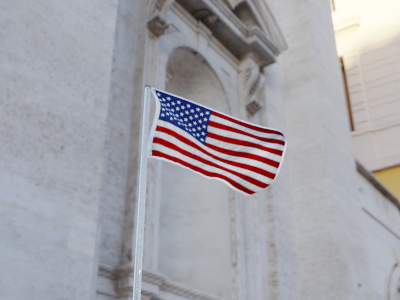America flag: (149, 87, 287, 197)
